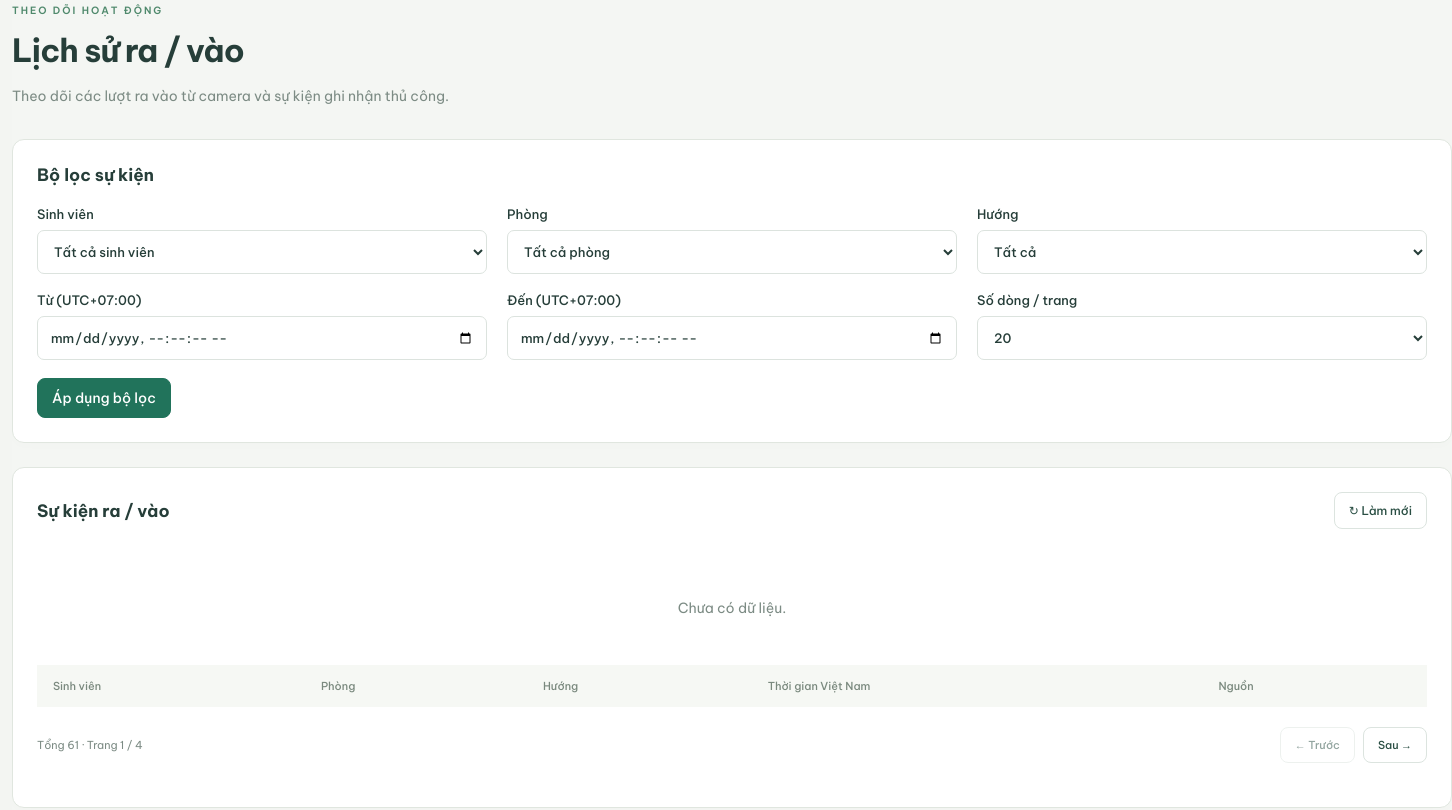
Scenario: Dữ liệu và ghi sự kiện › lịch sử phân trang theo metadata dù trang rỗng; lọc ISO +07:00
Expected: the text "Tổng 61 · Trang 1 / 4" is shown, left=37, top=738, right=143, bottom=752
Click the button "Sau →" at (1395, 745), box left=1363, top=727, right=1427, bottom=763
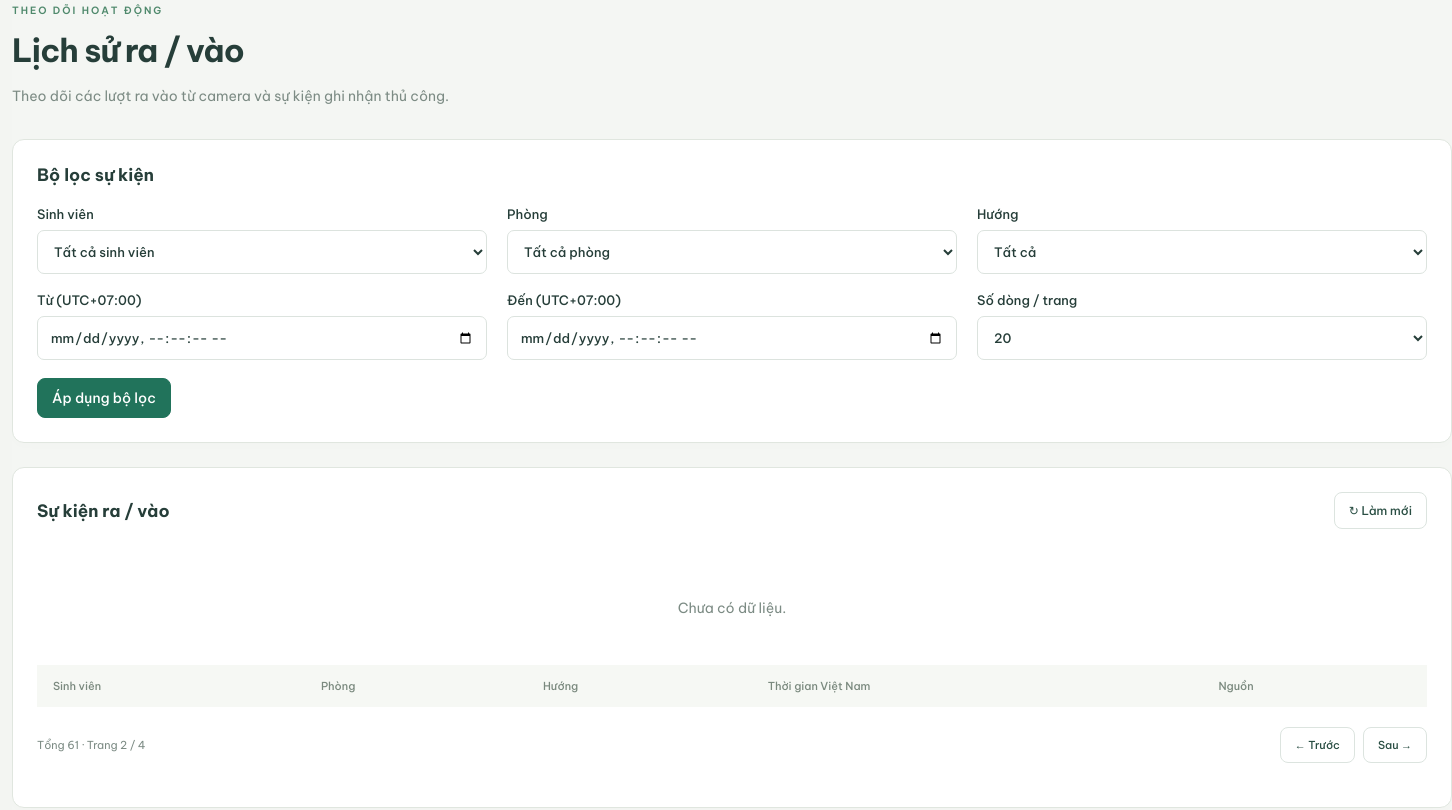
Result: the text "Tổng 61 · Trang 2 / 4" is shown at left=37, top=738, right=146, bottom=752
Select "SV007 · Sinh viên kiểm thử" in the dropdown labelled "Sinh viên" at (262, 252), box left=37, top=230, right=487, bottom=274
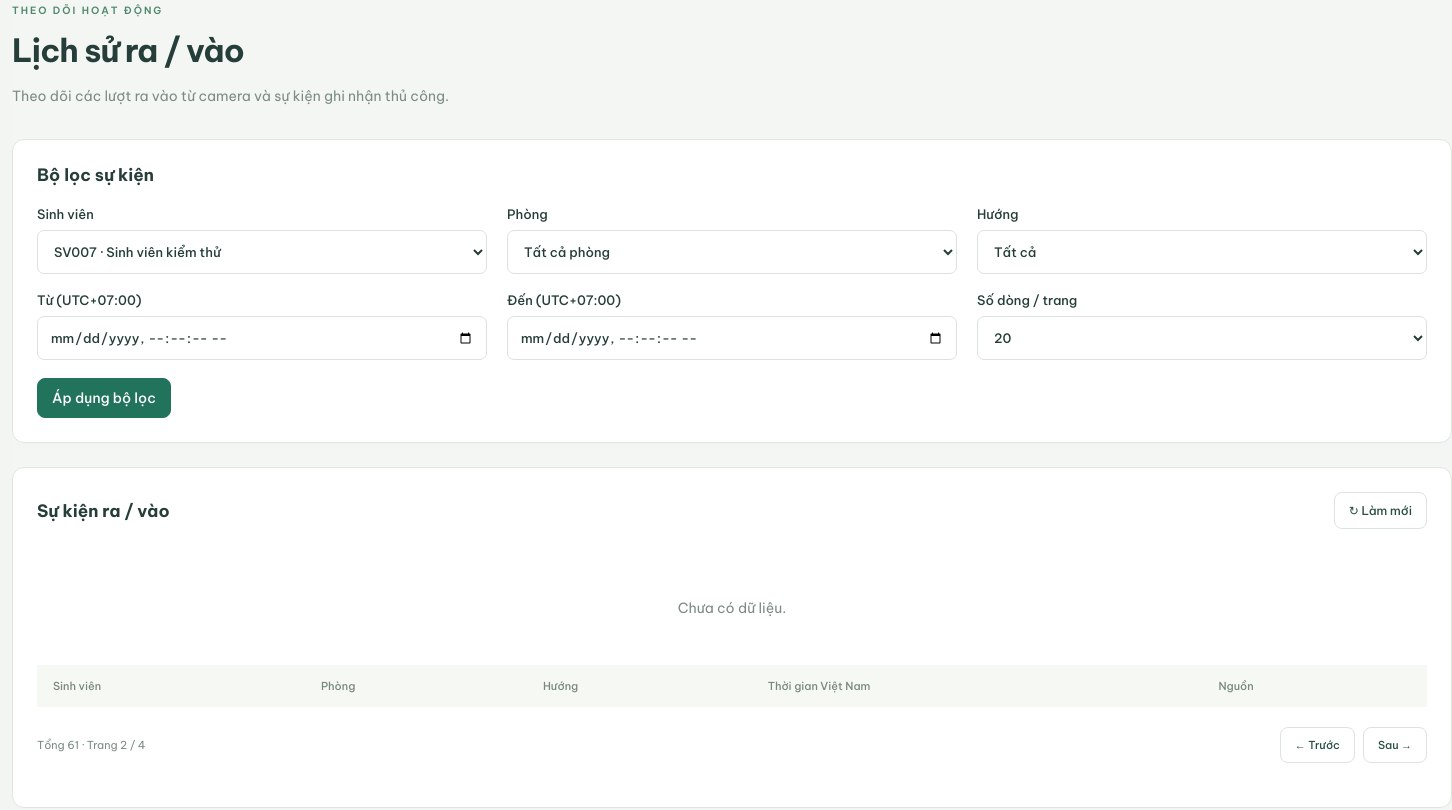
Type "2026-10-12T08:00" into the field labelled "Từ (UTC+07:00)" at (262, 338), box left=37, top=316, right=487, bottom=360
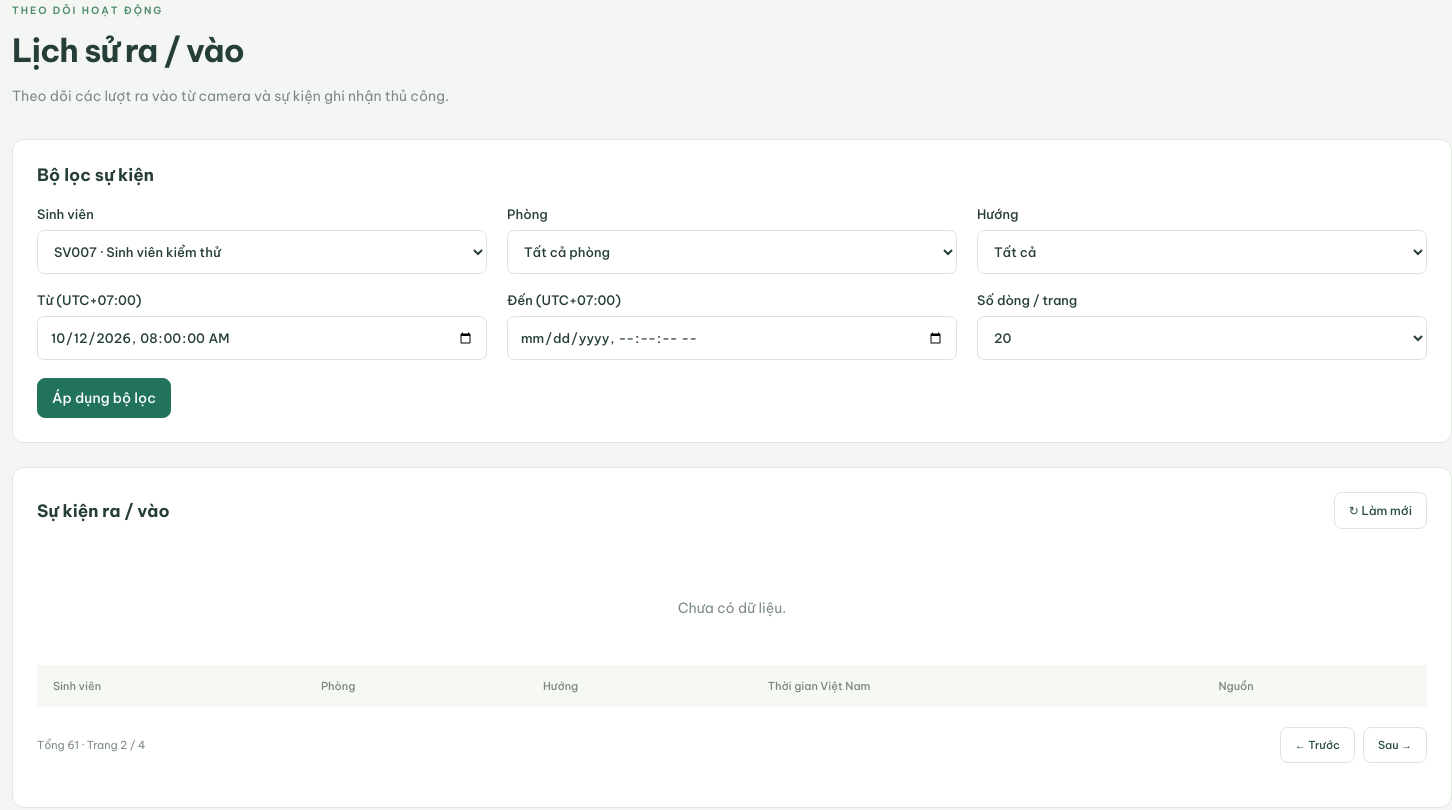
Click the button "Áp dụng bộ lọc" at (104, 398), box left=37, top=378, right=171, bottom=418
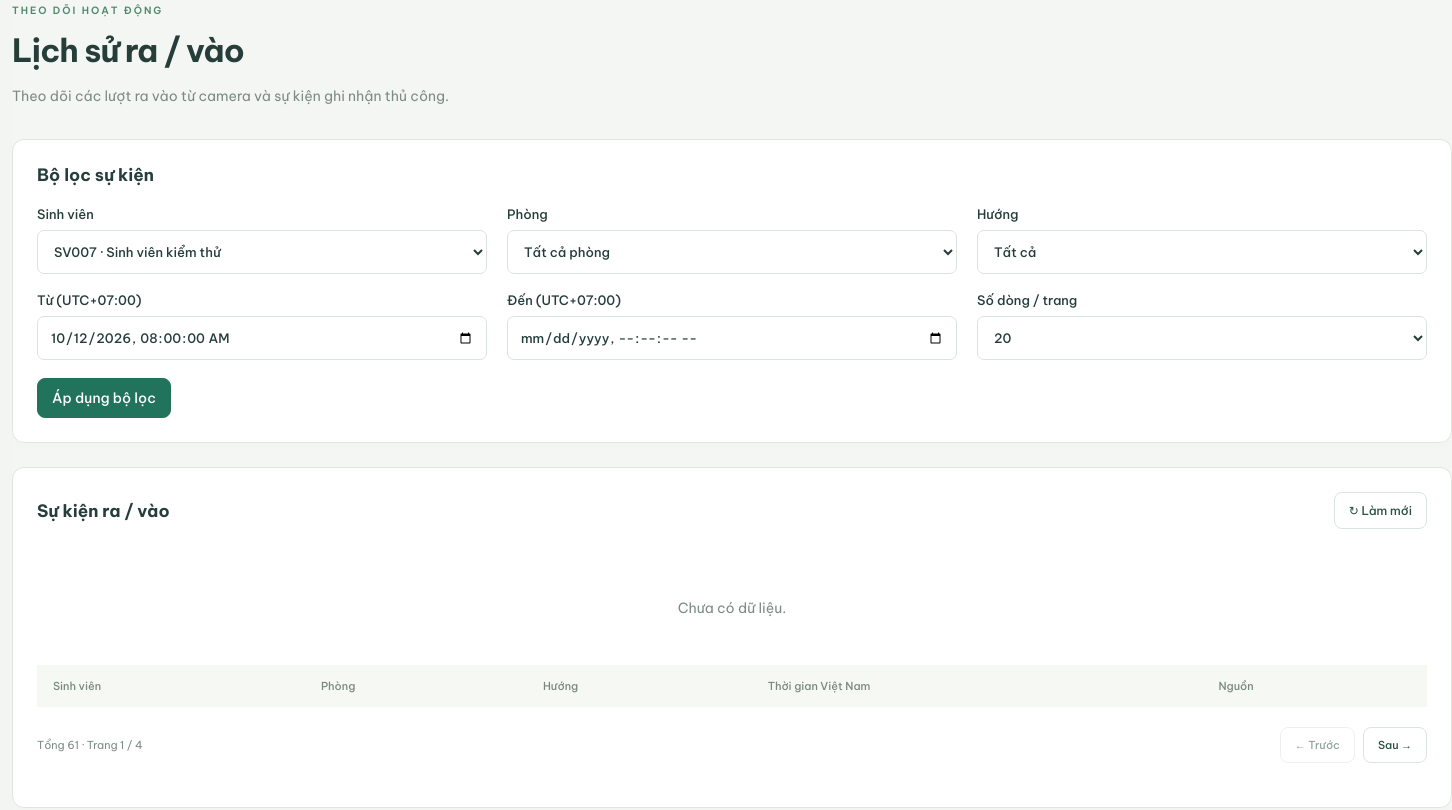
Result: the text "Tổng 61 · Trang 1 / 4" is shown at left=37, top=738, right=143, bottom=752
